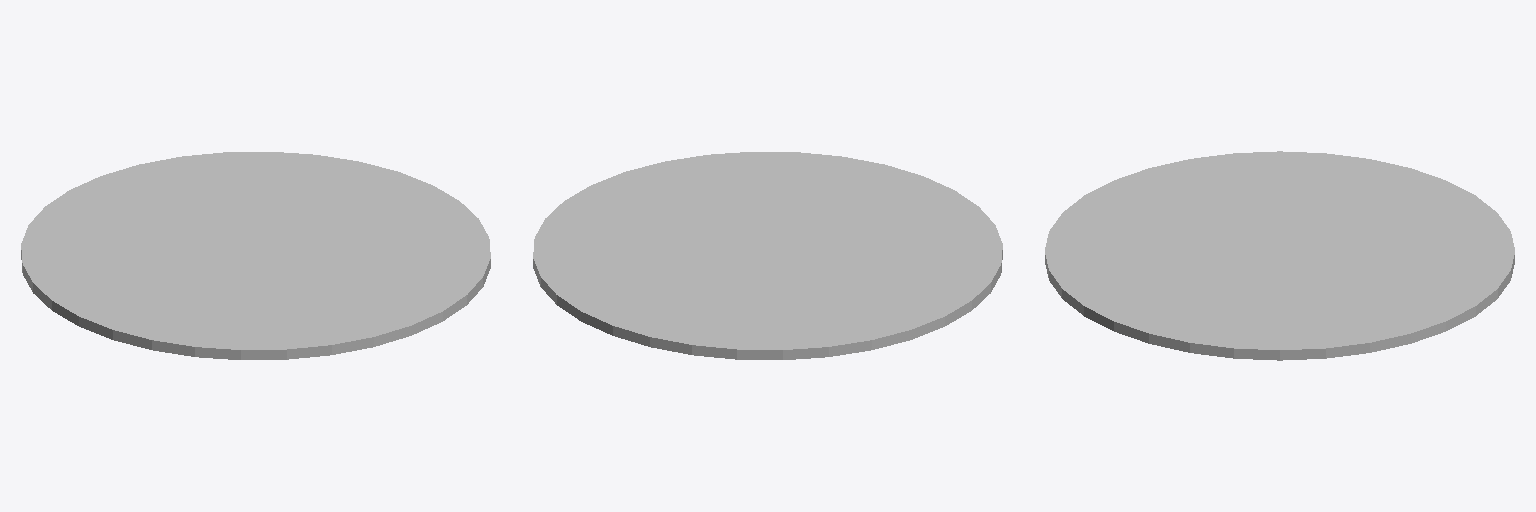
File: target.obj
3 renders of one model, left to right at view 1: azimuth 30°, elevation 25°; view 2: azimuth 150°, elevation 25°; view 3: azimuth 270°, elevation 25°, orthographic.
Parts seen in each view (by area): view 1: Cylinder; view 2: Cylinder; view 3: Cylinder.
Boxes of the visible parts, box(x1,y1,x2,y2) form: Cylinder: box(21, 152, 490, 359); Cylinder: box(533, 152, 1002, 359); Cylinder: box(1045, 151, 1514, 360).
Bounding box in the file's own units: 2 × 0.0478 × 2.